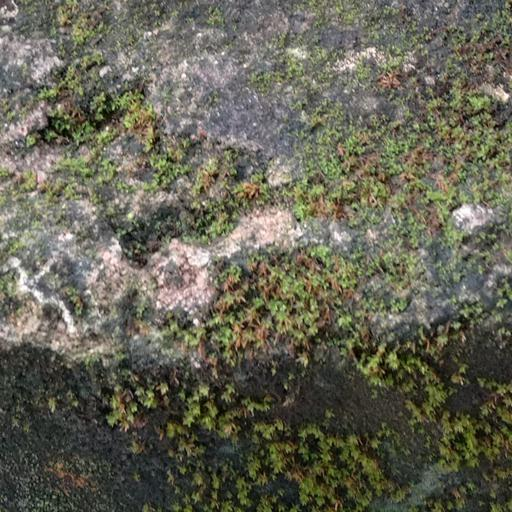algae: (26, 60, 512, 512)
